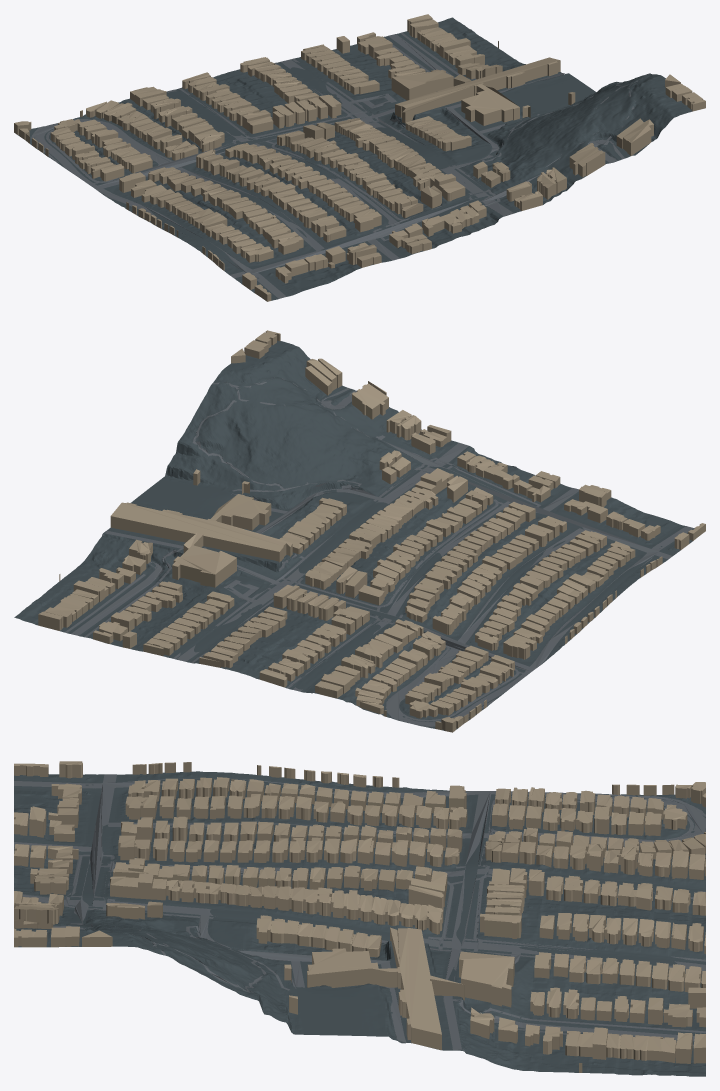
Rendered from epsg26910-1423-10879.lod0.glb.
3 renders of one model, top to bottom at view 1: azimuth 30°, elevation 25°; view 2: azimuth 150°, elevation 25°; view 3: azimuth 270°, elevation 25°, orthographic. The views are drawn at different scales.
Parts seen in each view (by area): view 1: epsg26910-1423-10879-lod0; view 2: epsg26910-1423-10879-lod0; view 3: epsg26910-1423-10879-lod0.
Boxes of the visible parts, x1,y1,x2,y2 form: epsg26910-1423-10879-lod0: (14, 14, 705, 301); epsg26910-1423-10879-lod0: (14, 330, 705, 732); epsg26910-1423-10879-lod0: (14, 761, 705, 1076).
Bounding box in the file's own units: 384 × 93.46 × 384.
